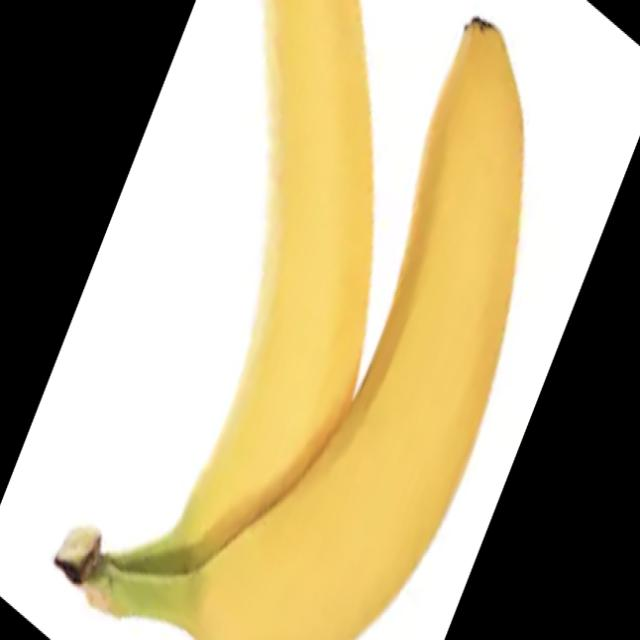god quality banana: (85, 1, 524, 639)
